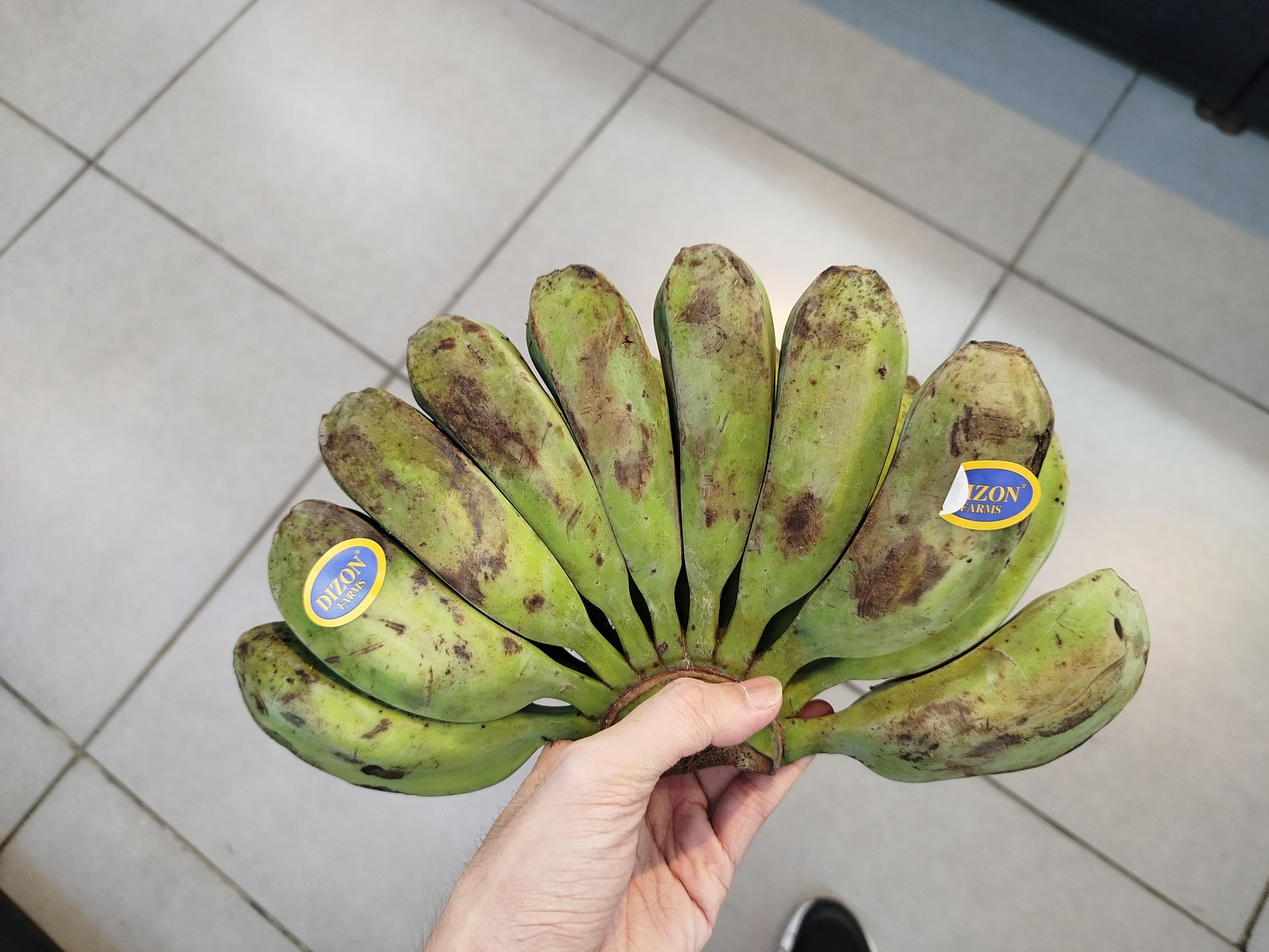underripe: (233, 245, 1150, 795)
